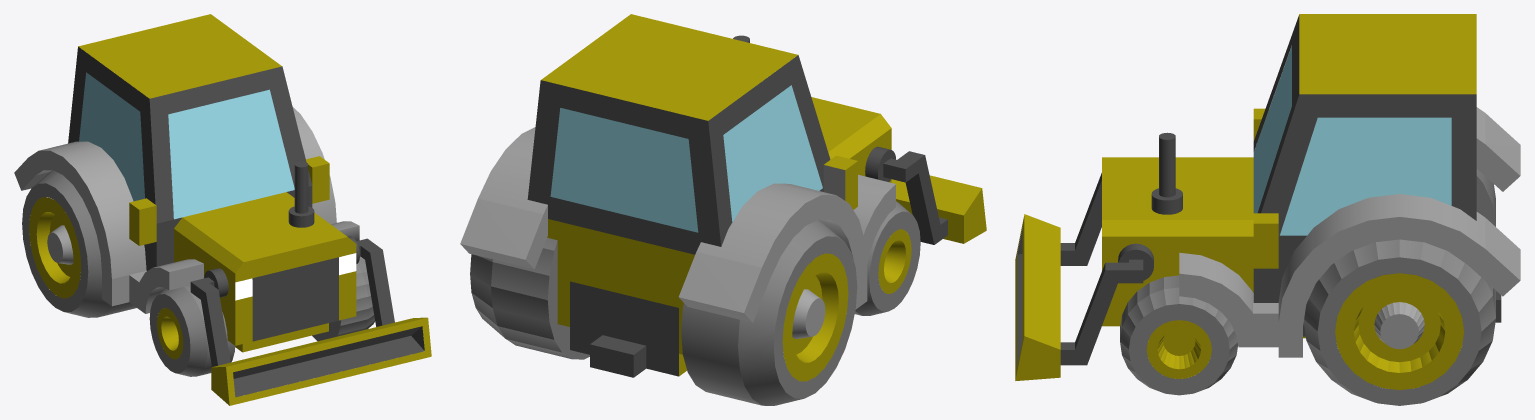
Rendered from tractor.glb.
The picture shows the model from 3 angles, left to right: view 1: azimuth 30°, elevation 25°; view 2: azimuth 150°, elevation 25°; view 3: azimuth 270°, elevation 25°; orthographic projection. The views are drawn at different scales.
Parts seen in each view (by area): view 1: body, shovel, skirts, wheel_backRight, wheel_frontRight, wheel_frontLeft; view 2: body, skirts, wheel_backRight, wheel_backLeft, shovel, wheel_frontRight; view 3: body, wheel_backLeft, skirts, shovel, wheel_frontLeft, wheel_backRight.
Part boxes in pixels (x1,y1,x2,y2): body: (68, 14, 356, 352); shovel: (190, 236, 431, 405); skirts: (14, 107, 359, 313); wheel_backRight: (22, 170, 136, 317); wheel_frontRight: (149, 285, 235, 376); wheel_frontLeft: (312, 256, 374, 341); body: (527, 14, 891, 377); skirts: (460, 127, 895, 322); wheel_backRight: (681, 220, 857, 405); wheel_backLeft: (470, 237, 589, 359); shovel: (865, 146, 986, 244); wheel_frontRight: (854, 201, 920, 315); body: (1102, 14, 1501, 338); wheel_backLeft: (1303, 239, 1495, 405); skirts: (1179, 107, 1520, 357); shovel: (1015, 173, 1153, 380); wheel_frontLeft: (1120, 275, 1237, 395); wheel_backRight: (1476, 169, 1495, 226).
Size of the model in its own units: 2.73 by 2.55 by 4.
